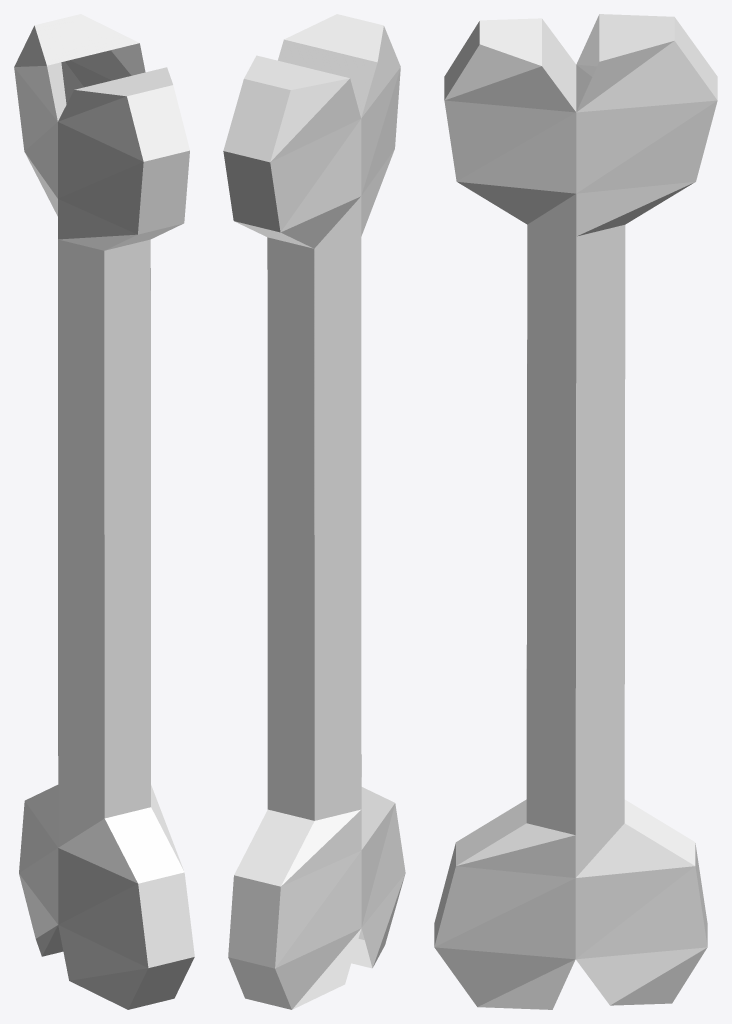
The model's file is luu.FBX.
3 renders of one model, left to right at view 1: azimuth 30°, elevation 25°; view 2: azimuth 150°, elevation 25°; view 3: azimuth 270°, elevation 25°, orthographic. The views are drawn at different scales.
Parts seen in each view (by area): view 1: luu; view 2: luu; view 3: luu.
Part boxes in pixels (left/top/right/bottom): luu: left=14, top=14, right=194, bottom=1009; luu: left=223, top=14, right=405, bottom=1009; luu: left=434, top=14, right=717, bottom=1009.
Size of the model in its own units: 10 by 94.22 by 25.03.
